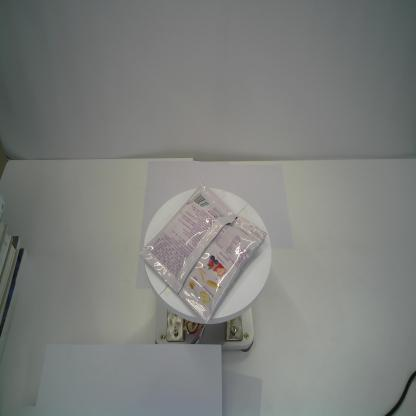Instant Drink: (138, 181, 268, 322)
